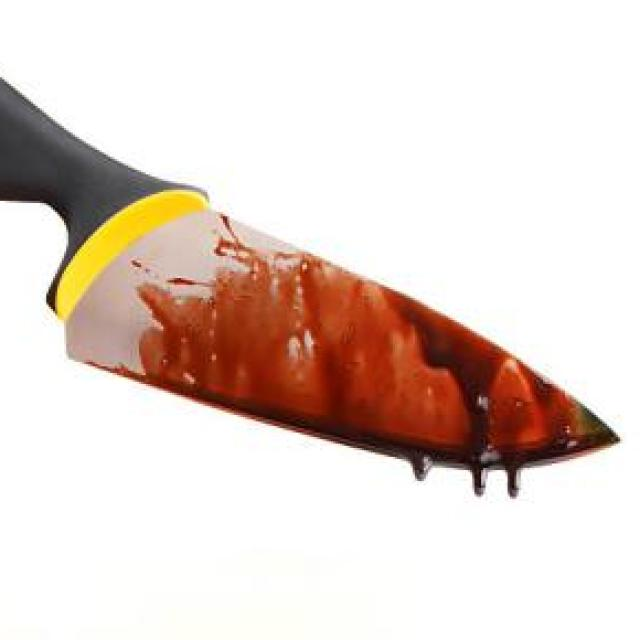knife: (0, 77, 611, 465)
